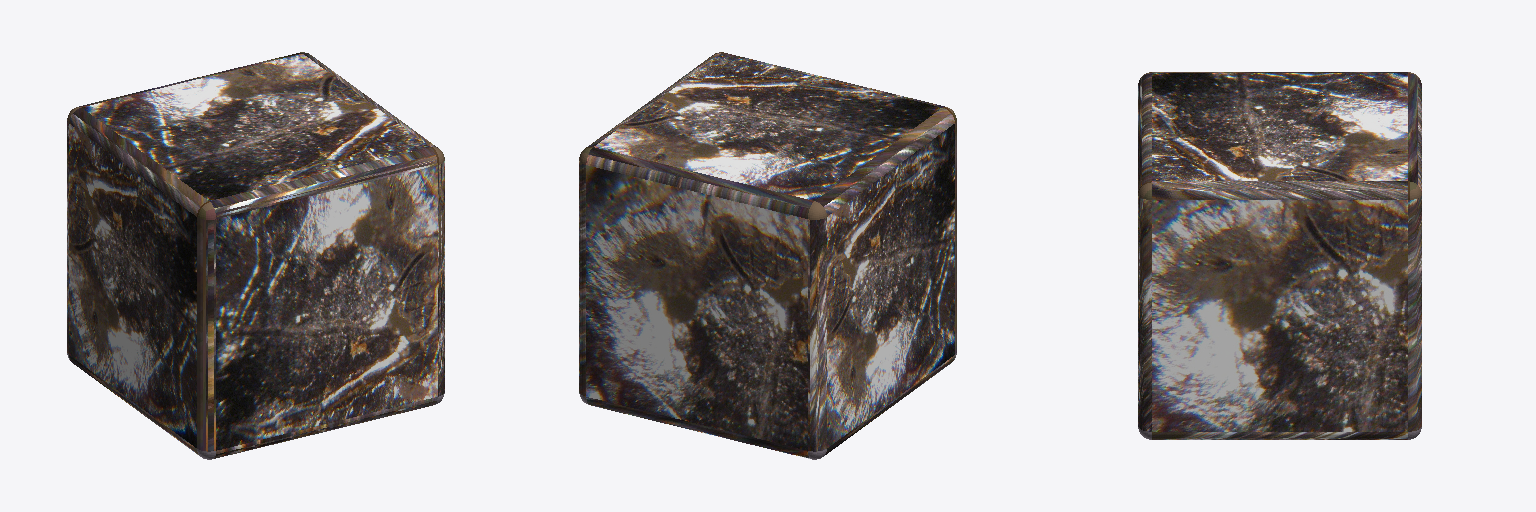
The picture shows the model from 3 angles: view 1: azimuth 30°, elevation 25°; view 2: azimuth 150°, elevation 25°; view 3: azimuth 270°, elevation 25°; orthographic projection.
Parts seen in each view (by area): view 1: Cube; view 2: Cube; view 3: Cube.
Boxes of the visible parts, x1=… form: Cube: x1=67, y1=52, x2=444, y2=459; Cube: x1=579, y1=52, x2=956, y2=459; Cube: x1=1138, y1=72, x2=1421, y2=439.
Bounding box in the file's own units: 2 × 2 × 2.
Materials: 1 (1 with a texture image).